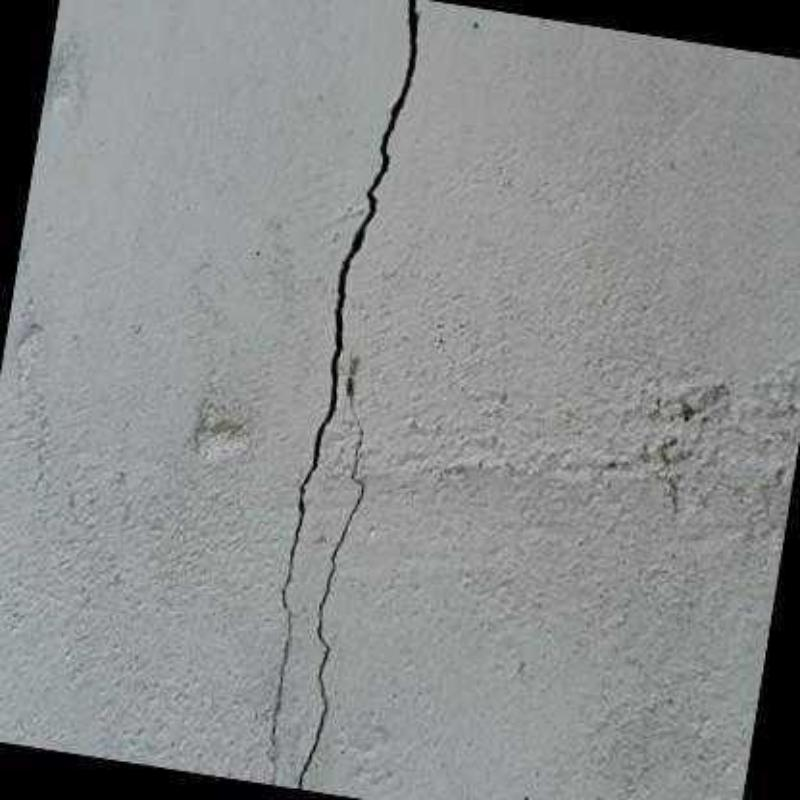pothole: (269, 0, 422, 771), (295, 352, 365, 790)
